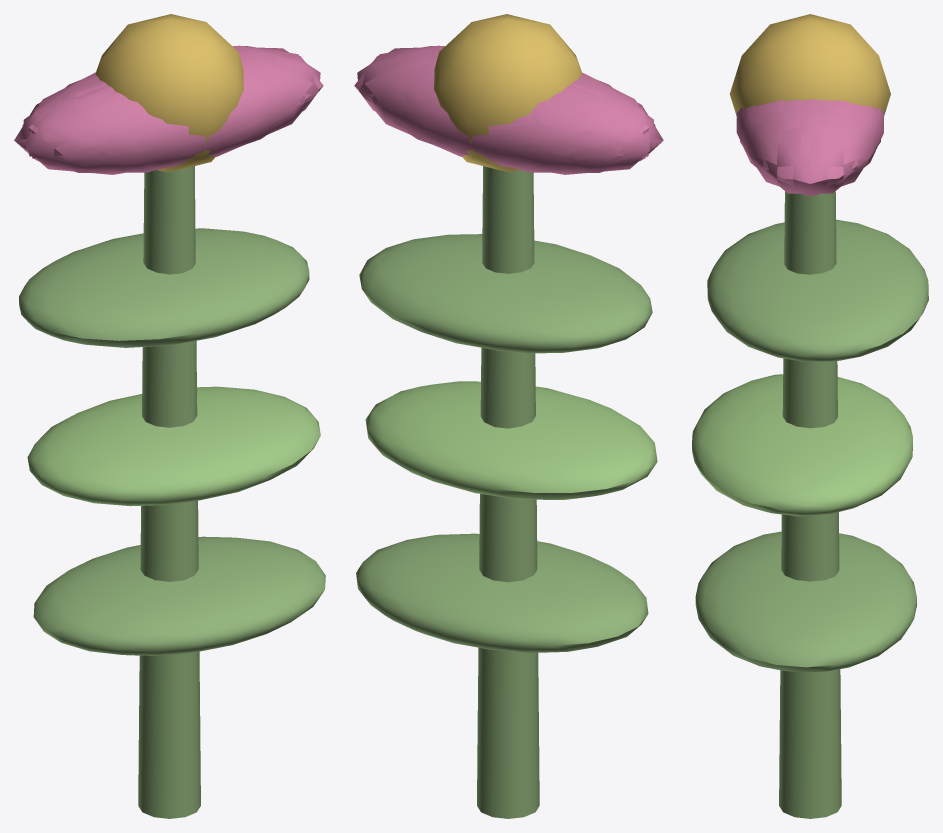
File: goeppertia-picturata.glb
3 views of the same model, side by side, from view 1: azimuth 30°, elevation 25°; view 2: azimuth 150°, elevation 25°; view 3: azimuth 270°, elevation 25° (orthographic).
Visible parts, largest first — view 1: leaf1, leaf2, leaf0, stem, center, petal6, petal2, petal1, petal5, petal7, petal0; view 2: leaf2, stem, leaf1, leaf0, center, petal3, petal7, petal8, petal4, petal2, petal0; view 3: leaf2, leaf0, leaf1, stem, center, petal0, petal5, petal4, petal1, petal8.
Part boxes in pixels (box(x1,y1,x2,y2)): leaf1: box(27, 386, 320, 506); leaf2: box(19, 228, 309, 347); leaf0: box(33, 536, 325, 655); stem: box(138, 166, 200, 818); center: box(95, 14, 243, 172); petal6: box(32, 86, 229, 172); petal2: box(23, 80, 176, 174); petal1: box(101, 64, 305, 170); petal5: box(164, 54, 323, 163); petal7: box(14, 75, 114, 165); petal0: box(237, 47, 320, 127); leaf2: box(359, 234, 652, 353); stem: box(477, 166, 539, 818); leaf1: box(365, 381, 657, 499); leaf0: box(356, 533, 648, 652); center: box(434, 14, 582, 172); petal3: box(447, 86, 645, 172); petal7: box(501, 80, 653, 174); petal8: box(372, 64, 576, 170); petal4: box(354, 54, 513, 163); petal2: box(563, 75, 663, 166); petal0: box(357, 47, 440, 145); leaf2: box(707, 219, 928, 361); leaf0: box(695, 531, 916, 672); leaf1: box(692, 374, 912, 516); stem: box(779, 191, 841, 818); center: box(729, 14, 890, 113); petal0: box(750, 99, 869, 193); petal5: box(739, 100, 822, 196); petal4: box(798, 100, 880, 196); petal1: box(736, 100, 786, 168); petal8: box(833, 100, 883, 167).
Size of the model in its own units: 0.1541 by 0.3863 by 0.1057.
